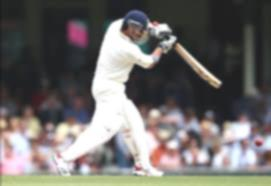batsman: (38, 6, 220, 180)
